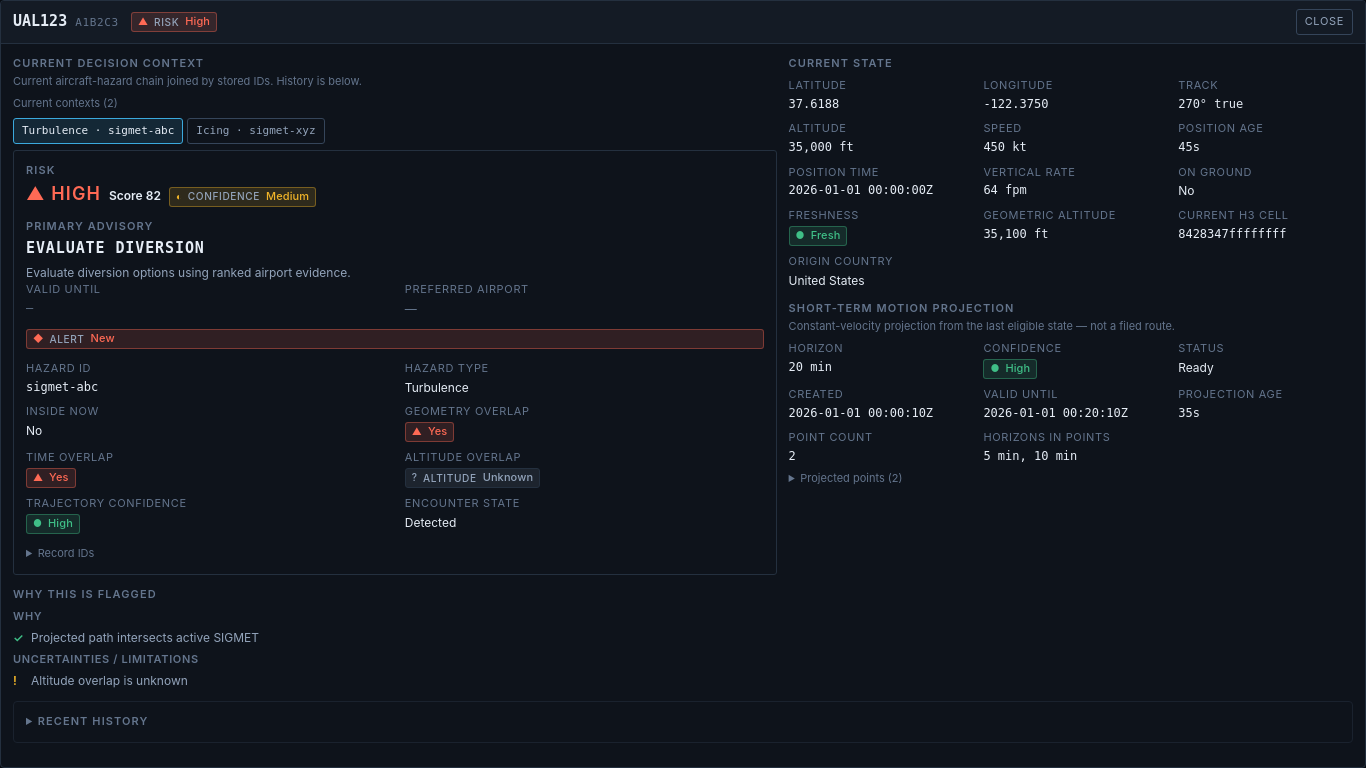
Test: AircraftSelectionPanel › lets the operator switch among multiple current contexts without rematching by recency
The width and height of the screenshot is (1366, 768).
Expected: the text "Current contexts (2)" is shown, [13,96,118,110]
Expected: the text "Evaluate diversion" is shown, [26,240,205,258]
Click the tab "Icing · sigmet-xyz": (256,131) [187,118,324,144]
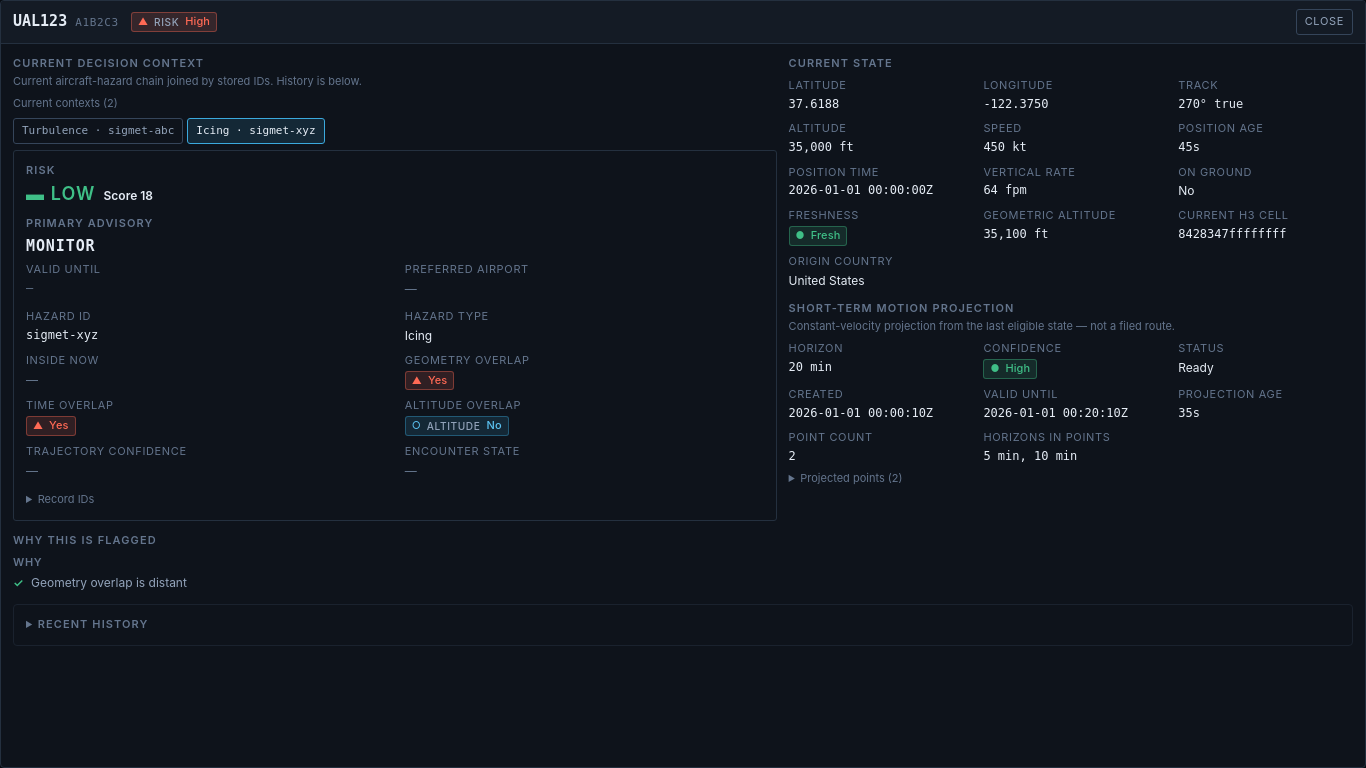
Expected: the text "Monitor" is shown, [26,237,96,255]
Expected: the text "Score 18" is shown, [104,187,153,204]
Expected: the text "Geometry overlap is distant" is shown, [31,576,187,590]
